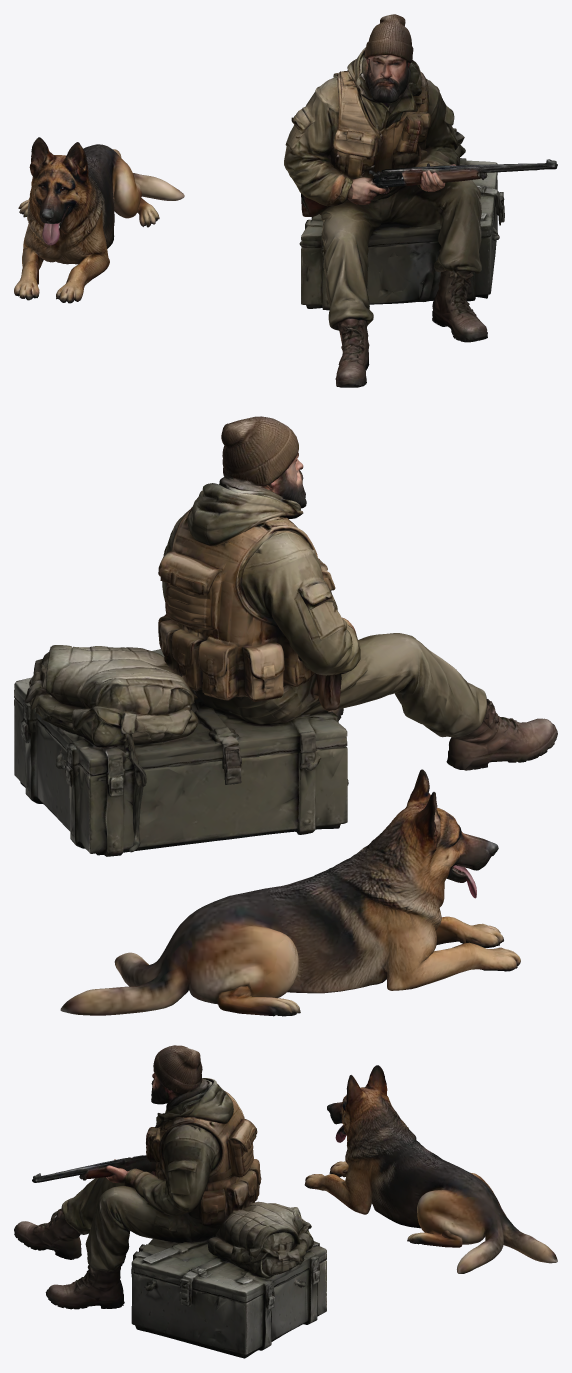
The model's file is jaeger.glb.
3 views of the same model, one above another, from view 1: azimuth 30°, elevation 25°; view 2: azimuth 150°, elevation 25°; view 3: azimuth 270°, elevation 25° (orthographic). The views are drawn at different scales.
Visible parts, largest first — view 1: tripo_node_c6b75e1d-155c-4b38-b0b6-777ee3a7b531; view 2: tripo_node_c6b75e1d-155c-4b38-b0b6-777ee3a7b531; view 3: tripo_node_c6b75e1d-155c-4b38-b0b6-777ee3a7b531.
Part boxes in pixels (<box>): tripo_node_c6b75e1d-155c-4b38-b0b6-777ee3a7b531: <box>14,14,557,387</box>; tripo_node_c6b75e1d-155c-4b38-b0b6-777ee3a7b531: <box>14,416,557,1016</box>; tripo_node_c6b75e1d-155c-4b38-b0b6-777ee3a7b531: <box>14,1045,557,1358</box>.
Size of the model in its own units: 0.8037 by 0.5014 by 0.9824.
Materials: 1 (1 with a texture image).
